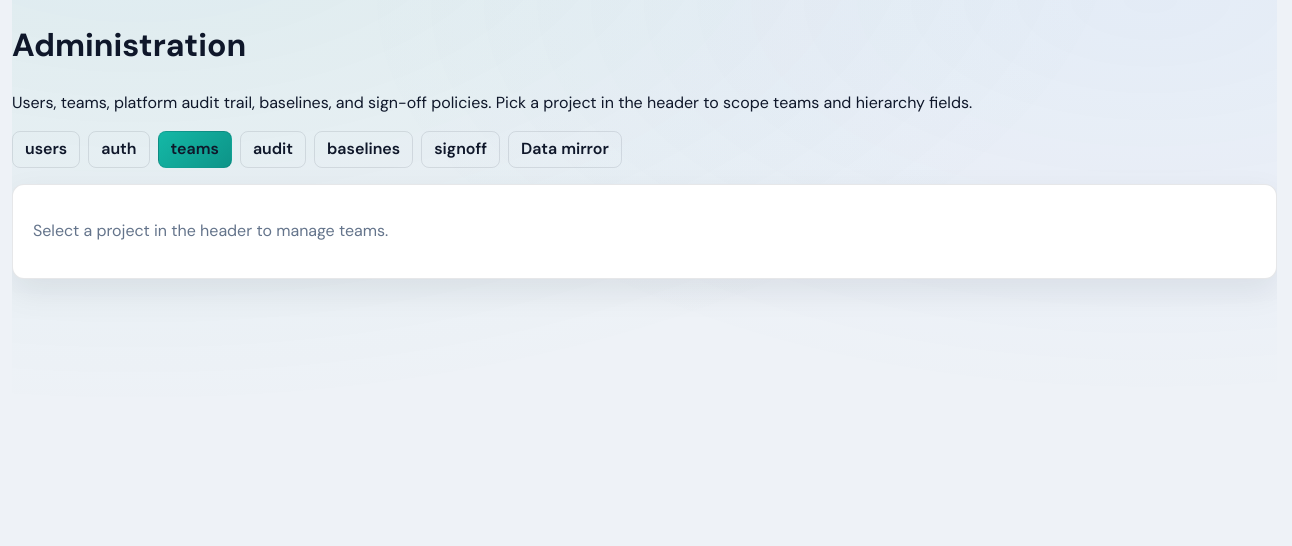
Test case: Admin › shows user directory and Add local user for system administrators
The image size is (1292, 546).
Expected: the text "Users, teams, platform audit trail" is shown, [12,92,492,113]
Click the button "users": [46, 150] box [12,131,80,168]
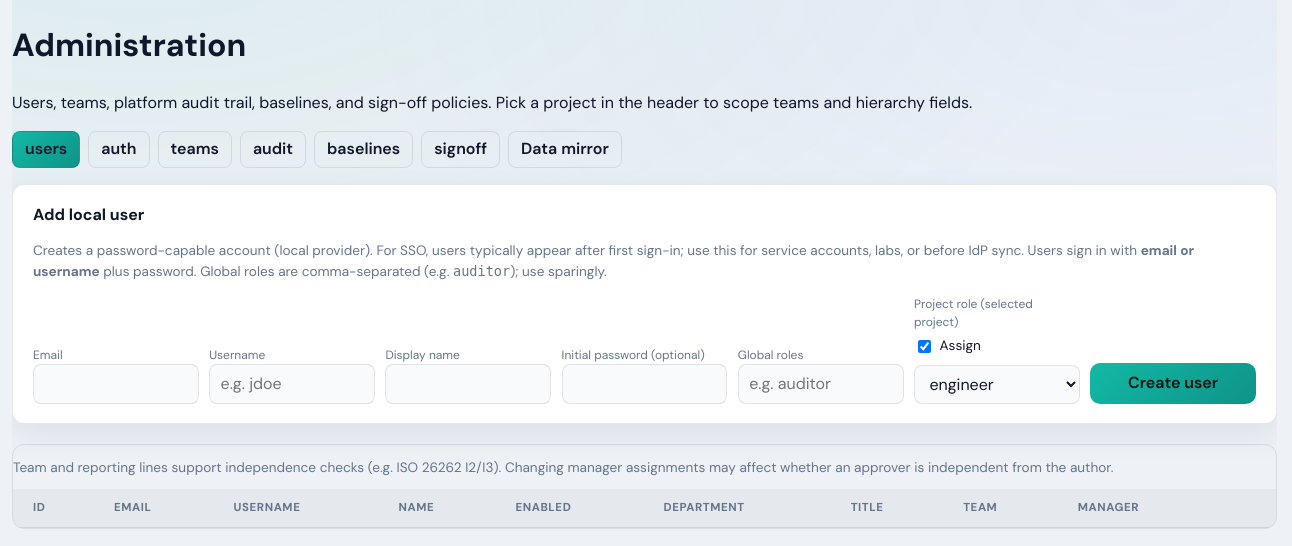
Expected: the text "Add local user" is shown, [33,204,144,226]
